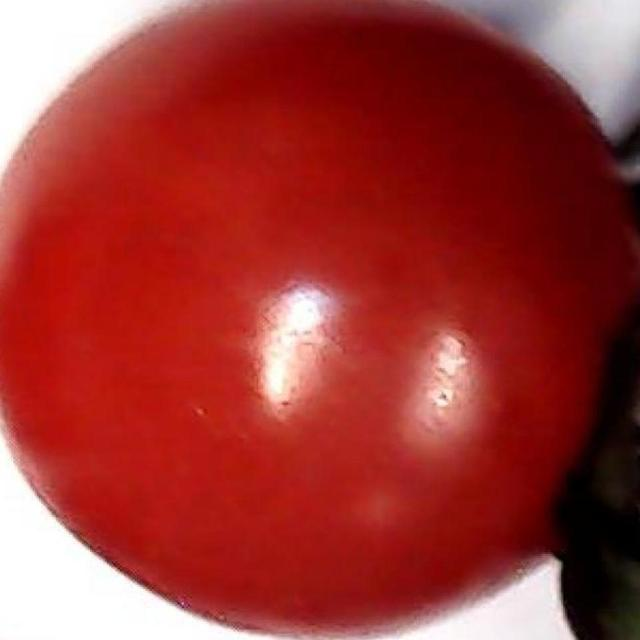Healthy Fruit: (0, 0, 390, 425)
